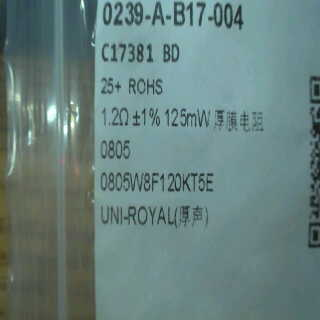1.2R: (98, 104, 131, 164)
